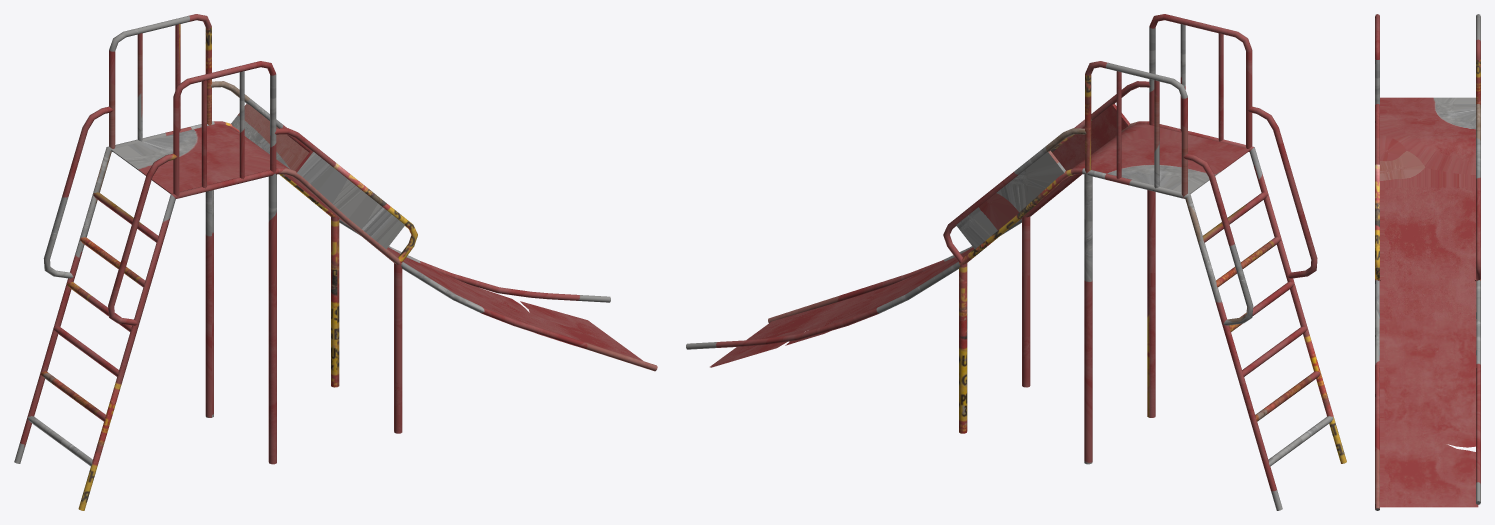
Rendered from slide.fbx.
The picture shows the model from 3 angles, left to right: view 1: azimuth 30°, elevation 25°; view 2: azimuth 150°, elevation 25°; view 3: azimuth 270°, elevation 25°; orthographic projection. The views are drawn at different scales.
Parts seen in each view (by area): view 1: abandoned_childrens_slide, Plane004; view 2: abandoned_childrens_slide, Plane004; view 3: Plane004, abandoned_childrens_slide.
Part boxes in pixels (x1,y1,x2,y2): abandoned_childrens_slide: (14, 14, 657, 510); Plane004: (27, 124, 642, 466); abandoned_childrens_slide: (686, 14, 1346, 510); Plane004: (710, 124, 1333, 466); Plane004: (1379, 97, 1478, 507); abandoned_childrens_slide: (1375, 14, 1480, 510).
Bounding box in the file's own units: 425 × 277 × 83.47.
